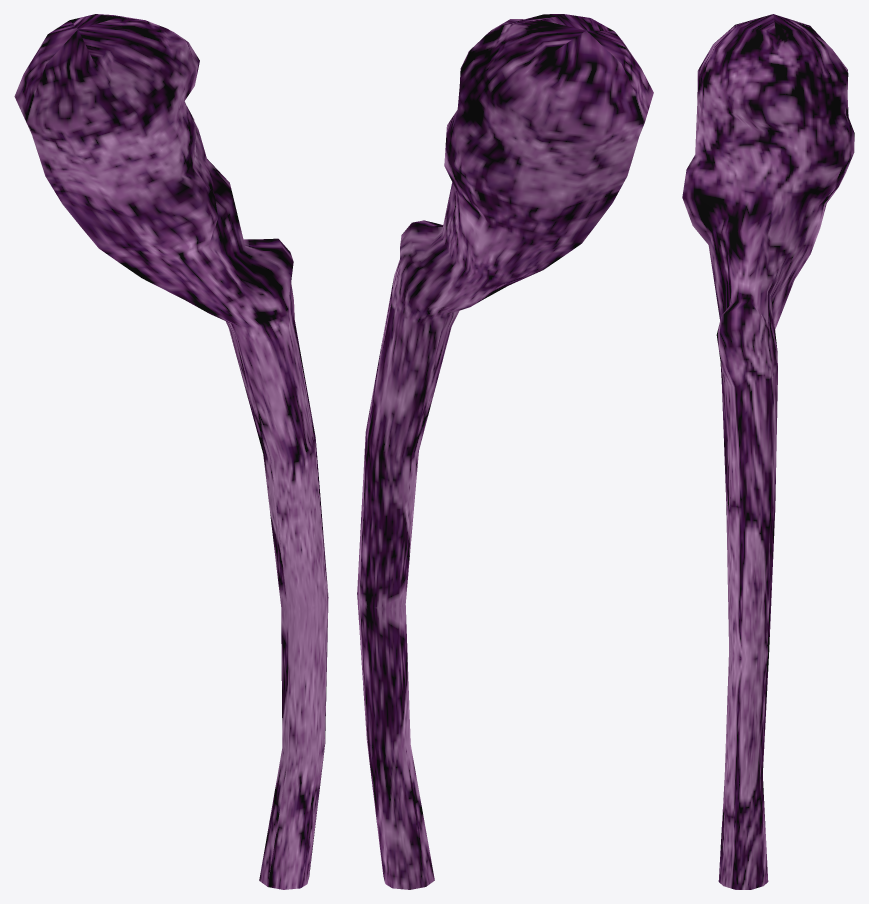
File: ps2_save-icons_silent-hill-4.glb
3 views of the same model, side by side, from view 1: azimuth 30°, elevation 25°; view 2: azimuth 150°, elevation 25°; view 3: azimuth 270°, elevation 25° (orthographic). The views are drawn at different scales.
Parts seen in each view (by area): view 1: static.ico; view 2: static.ico; view 3: static.ico.
Part boxes in pixels (bbox=[...]): static.ico: bbox=[14, 14, 328, 889]; static.ico: bbox=[357, 14, 653, 889]; static.ico: bbox=[682, 14, 854, 889].
Size of the model in its own units: 1.47 by 4.33 by 0.8608.
Materials: 1 (1 with a texture image).
